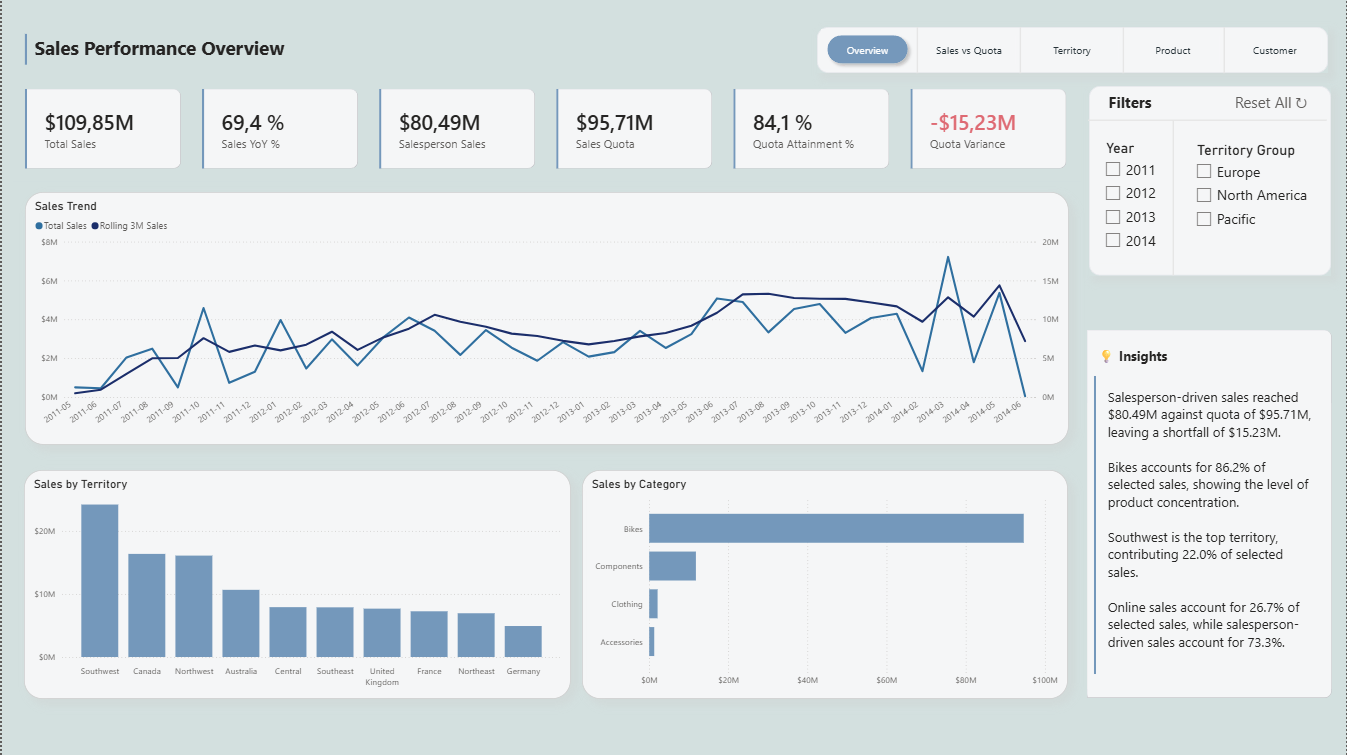

Layout of this report page (visuals, bound fields, positions):
{"tool":"powerbi","page":{"name":"1: Sales Performance Overview","canvas":[1920,1080],"ordinal":0},"visuals":[{"type":"shape","box":[0,0,1920,1080],"z":0},{"type":"shape","box":[1164.3,39.2,730,65.6],"z":0,"group":"g6"},{"type":"group","id":"g1","title":"Group 4","box":[1170.2,41.6,715.3,58.2],"z":0,"group":"g7"},{"type":"actionButton","title":"Sales vs Quota","box":[1314.6,52.1,134.3,40],"z":0,"group":"g1"},{"type":"cardVisual","fields":{"Data":["Text.Sales reached $109,85M"]},"box":[1532.9,454.3,384.3,560],"z":0,"group":"g3"},{"type":"shape","box":[1302.2,38.6,12.5,66],"z":1000,"group":"g7"},{"type":"actionButton","title":"Sales vs Quota","box":[1461.8,52.1,134.3,40],"z":1000,"group":"g1"},{"type":"cardVisual","fields":{"Data":["Measures (2).Total Sales","Measures (2).Sales YoY %","Measures (2).Salesperson Sales","Measures (2).Sales Quota","Measures (2).Quota Attainment %","Measures (2).Quota Variance"]},"box":[15.7,110,1525.7,148.6],"z":1000},{"type":"shape","box":[1552.6,123.2,345.7,270.7],"z":1000,"group":"g2"},{"type":"textbox","box":[1559.4,489.5,205.5,41.8],"z":1000,"group":"g3"},{"type":"shape","box":[1449.3,39,12.5,66.2],"z":2000,"group":"g7"},{"type":"actionButton","title":"Sales vs Quota","box":[1170.2,41.6,132.9,58.2],"z":2000,"group":"g1"},{"type":"lineChart","title":"Sales Trend","fields":{"Category":["dim_date.YearMonth"],"Y":["Measures (2).Total Sales"],"Y2":["Measures (2).Rolling 3M Sales"]},"box":[32.9,274.3,1491.4,361.4],"z":2000},{"type":"shape","box":[1596.2,39,12.5,66.2],"z":3000,"group":"g7"},{"type":"actionButton","title":"Sales vs Quota","box":[1606,52.1,134.3,40],"z":3000,"group":"g1"},{"type":"barChart","title":"Sales by Category","fields":{"Category":["dim_product.CategoryName"],"Y":["Measures (2).Total Sales"]},"box":[828.6,671.4,694.3,327.1],"z":3000},{"type":"cardVisual","fields":{"Data":["Text.Sales reached $109,85M"]},"box":[15.7,31.4,406.7,78.3],"z":4000,"group":"g4"},{"type":"actionButton","title":"Sales vs Quota","box":[1751.4,52.3,134.1,40],"z":4000,"group":"g1"},{"type":"columnChart","title":"Sales by Territory","fields":{"Category":["dim_territory.TerritoryName"],"Y":["Measures (2).Total Sales"]},"box":[31.4,671.4,781.4,327.1],"z":4000},{"type":"group","id":"g2","title":"Group 1","box":[1551.4,122.9,347.1,271.4],"z":5000},{"type":"textbox","box":[40.7,43.8,388.4,53.2],"z":6000,"group":"g4"},{"type":"slicer","fields":{"Values":["dim_date.Year"]},"box":[1564.3,195,104.4,181.5],"z":6000,"group":"g2"},{"type":"group","id":"g3","title":"Group 2","box":[1532.9,454.3,384.3,560],"z":6000},{"type":"cardVisual","fields":{"Data":["Text.P4 - Product Summary"]},"box":[1542.9,520,328.8,460],"z":6500,"group":"g3"},{"type":"shape","box":[1666.9,171.5,12.3,222.3],"z":7000},{"type":"slicer","fields":{"Values":["dim_territory.TerritoryGroup"]},"box":[1694.5,197.3,192.8,157.3],"z":7000,"group":"g2"},{"type":"group","id":"g4","title":"Group 3","box":[15.7,31.4,412.9,78.6],"z":8000},{"type":"textbox","box":[1569.7,125.9,129.4,45],"z":8000,"group":"g2"},{"type":"group","id":"g5","title":"Group 6","box":[1170.2,38.6,715.3,66.8],"z":9000,"group":"g6"},{"type":"shape","box":[1740.2,39.1,12.3,66.4],"z":9000,"group":"g5"},{"type":"actionButton","title":"Reset All   ↻","box":[1751,122.9,117.2,48.7],"z":9000,"group":"g2"},{"type":"tableEx","fields":{"Values":["Insights.Insights P1"]},"box":[1569.1,520,325,473.8],"z":9000,"group":"g3"},{"type":"group","id":"g6","title":"Group 7","box":[1164.3,38.6,730,66.8],"z":9001},{"type":"group","id":"g7","title":"Group 5","box":[1170.2,38.6,715.3,66.6],"z":10000,"group":"g5"},{"type":"shape","box":[1551.4,156.8,341.1,29.3],"z":10000,"group":"g2"}]}

Visuals, with their boxes in screenshot pixels (x1, y1, x2, y2), scaled from the page's 1920x1080 canvas onto the 1347x755 screenshot:
shape: Rect(0, 0, 1346, 754)
shape: Rect(817, 27, 1329, 73)
"Group 4" group: Rect(821, 29, 1323, 70)
"Sales vs Quota" actionButton: Rect(922, 36, 1016, 64)
cardVisual - Text.Sales reached $109,85M: Rect(1075, 318, 1345, 709)
shape: Rect(914, 27, 922, 73)
"Sales vs Quota" actionButton: Rect(1026, 36, 1120, 64)
cardVisual - Measures (2).Total Sales x Measures (2).Sales YoY %: Rect(11, 77, 1081, 181)
shape: Rect(1089, 86, 1332, 275)
textbox: Rect(1094, 342, 1238, 371)
shape: Rect(1017, 27, 1026, 74)
"Sales vs Quota" actionButton: Rect(821, 29, 914, 70)
"Sales Trend" lineChart: Rect(23, 192, 1069, 444)
shape: Rect(1120, 27, 1129, 74)
"Sales vs Quota" actionButton: Rect(1127, 36, 1221, 64)
"Sales by Category" barChart: Rect(581, 469, 1068, 698)
cardVisual - Text.Sales reached $109,85M: Rect(11, 22, 296, 77)
"Sales vs Quota" actionButton: Rect(1229, 37, 1323, 65)
"Sales by Territory" columnChart: Rect(22, 469, 570, 698)
"Group 1" group: Rect(1088, 86, 1332, 276)
textbox: Rect(29, 31, 301, 68)
slicer - dim_date.Year: Rect(1097, 136, 1171, 263)
"Group 2" group: Rect(1075, 318, 1345, 709)
cardVisual - Text.P4 - Product Summary: Rect(1082, 364, 1313, 685)
shape: Rect(1169, 120, 1178, 275)
slicer - dim_territory.TerritoryGroup: Rect(1189, 138, 1324, 248)
"Group 3" group: Rect(11, 22, 301, 77)
textbox: Rect(1101, 88, 1192, 119)
"Group 6" group: Rect(821, 27, 1323, 74)
shape: Rect(1221, 27, 1229, 74)
"Reset All   ↻" actionButton: Rect(1228, 86, 1311, 120)
tableEx - Insights.Insights P1: Rect(1101, 364, 1329, 695)
"Group 7" group: Rect(817, 27, 1329, 74)
"Group 5" group: Rect(821, 27, 1323, 74)
shape: Rect(1088, 110, 1328, 130)
